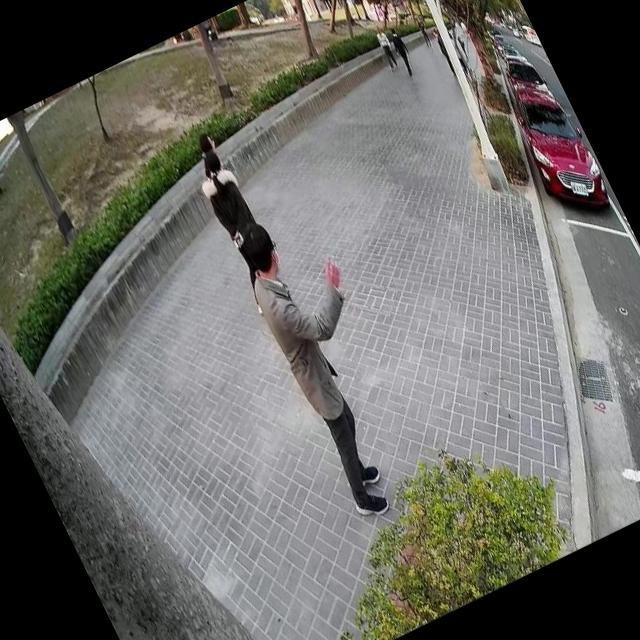person: (218, 190, 449, 528), (180, 138, 298, 318), (380, 17, 420, 80), (426, 22, 464, 79), (368, 20, 404, 74)
